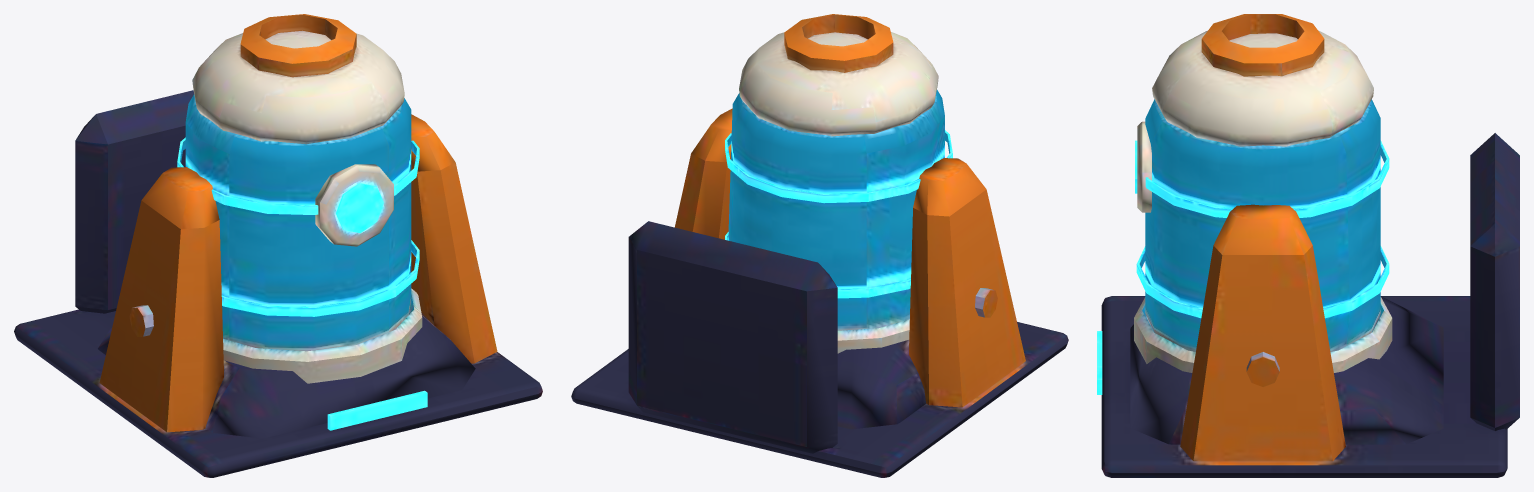
Rendered from R4X_Battery_LOD1.glb.
The picture shows the model from 3 angles, left to right: view 1: azimuth 30°, elevation 25°; view 2: azimuth 150°, elevation 25°; view 3: azimuth 270°, elevation 25°; orthographic projection. The views are drawn at different scales.
Parts seen in each view (by area): view 1: R4X_Battery_LOD1; view 2: R4X_Battery_LOD1; view 3: R4X_Battery_LOD1.
Boxes of the visible parts, x1=… form: R4X_Battery_LOD1: x1=14, y1=14, x2=542, y2=477; R4X_Battery_LOD1: x1=571, y1=14, x2=1068, y2=477; R4X_Battery_LOD1: x1=1097, y1=14, x2=1519, y2=477.
Size of the model in its own units: 0.49 by 0.486 by 0.5105.
Materials: 4 (4 with a texture image).
